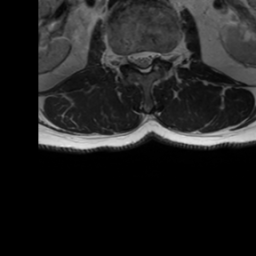CCS_normal: (139, 44, 148, 78)
LFS_normal: (159, 43, 169, 68)
LLS_normal: (148, 43, 158, 69)
RFS_normal: (119, 45, 129, 72)
RLS_normal: (129, 44, 139, 73)
